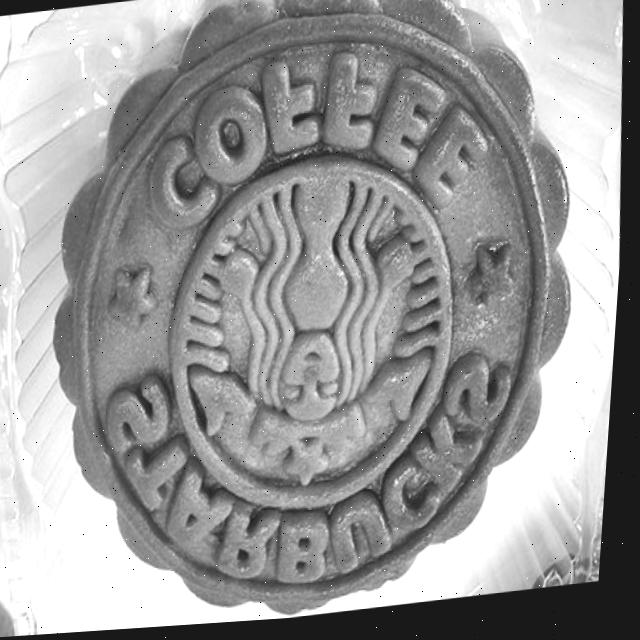蛋糕甜品: (21, 0, 615, 637)
